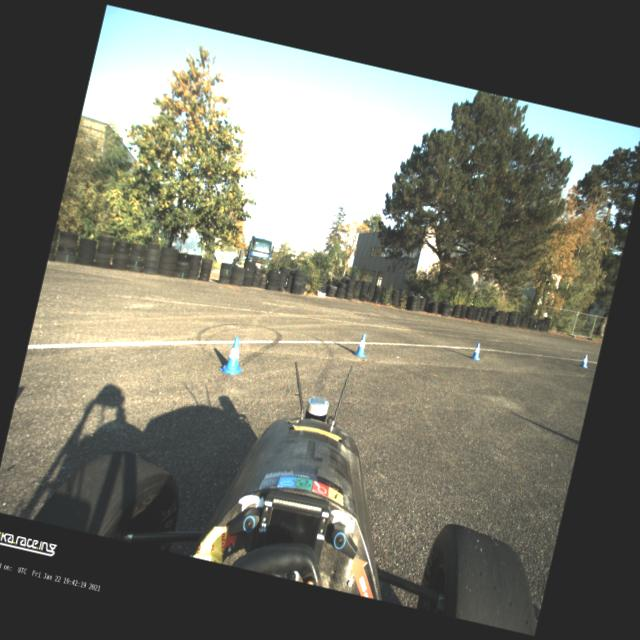blue_cone: (218, 333, 250, 378), (352, 330, 372, 359), (469, 340, 484, 362), (578, 352, 590, 368)
